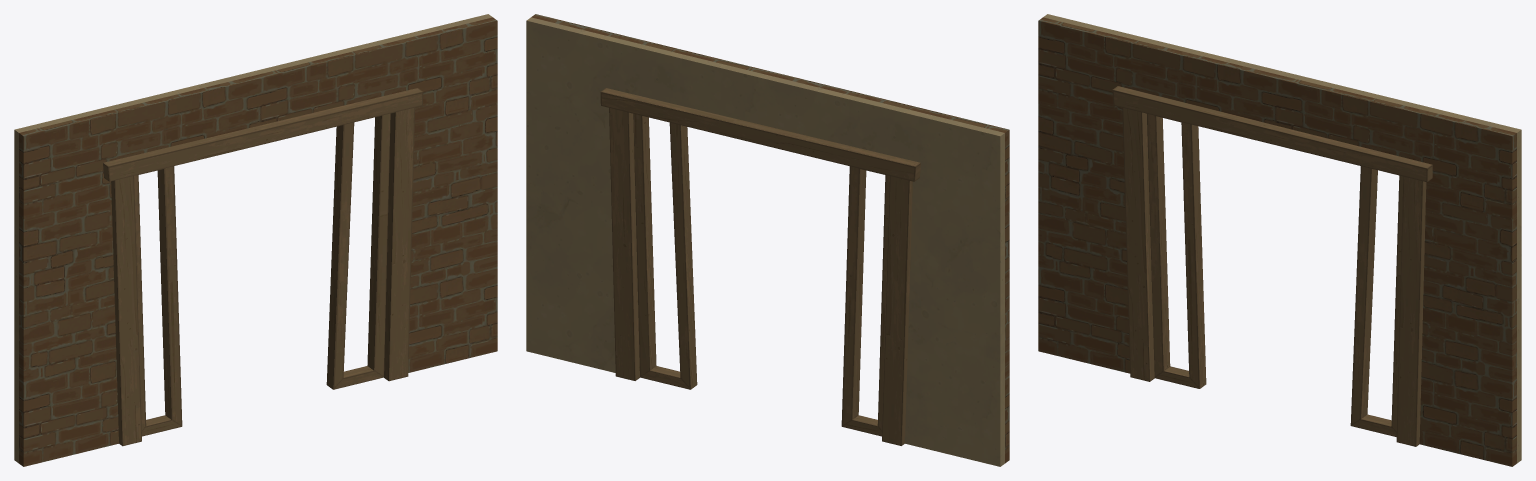
File: SM_building_wall_23.glb
The picture shows the model from 3 angles, left to right: view 1: azimuth 30°, elevation 25°; view 2: azimuth 150°, elevation 25°; view 3: azimuth 330°, elevation 25°; orthographic projection.
Parts seen in each view (by area): view 1: SM_building_wall_23; view 2: SM_building_wall_23; view 3: SM_building_wall_23.
Part boxes in pixels (<box>): SM_building_wall_23: <box>14,14,497,466</box>; SM_building_wall_23: <box>526,14,1009,466</box>; SM_building_wall_23: <box>1038,14,1521,466</box>.
Size of the model in its own units: 6 by 4 by 0.4362.
3 materials, 3 textured.
